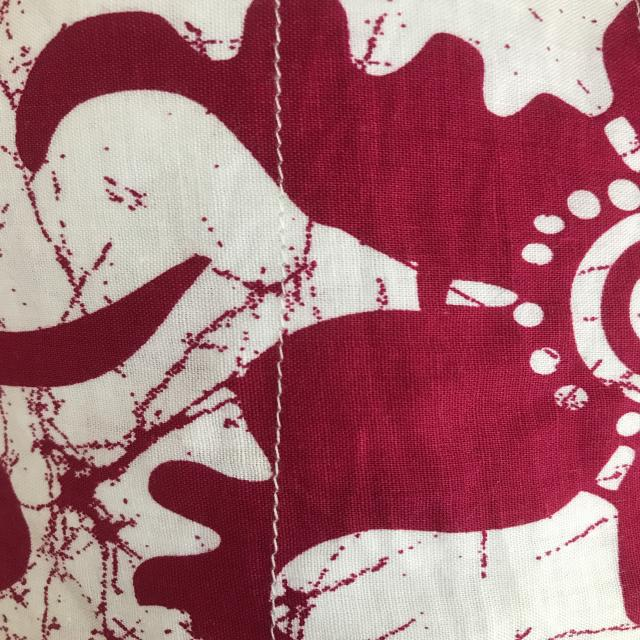good: (265, 8, 294, 166), (257, 354, 295, 450), (260, 485, 295, 561)
